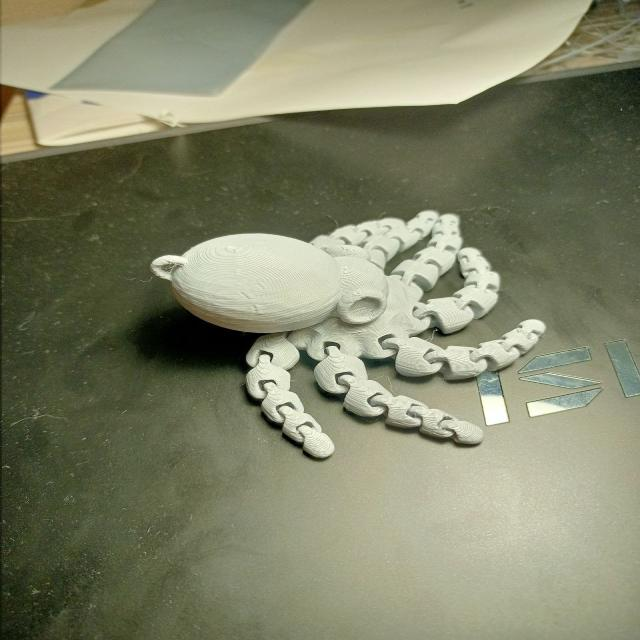Without deffect: (148, 194, 562, 458)
